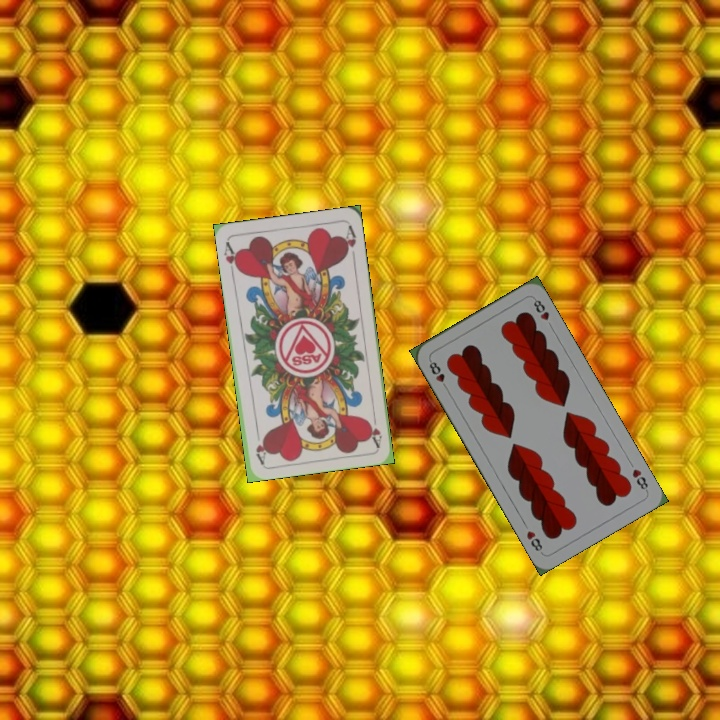H8: (425, 356, 451, 393), (628, 465, 651, 494)
HA: (220, 237, 242, 278), (364, 408, 384, 449)
